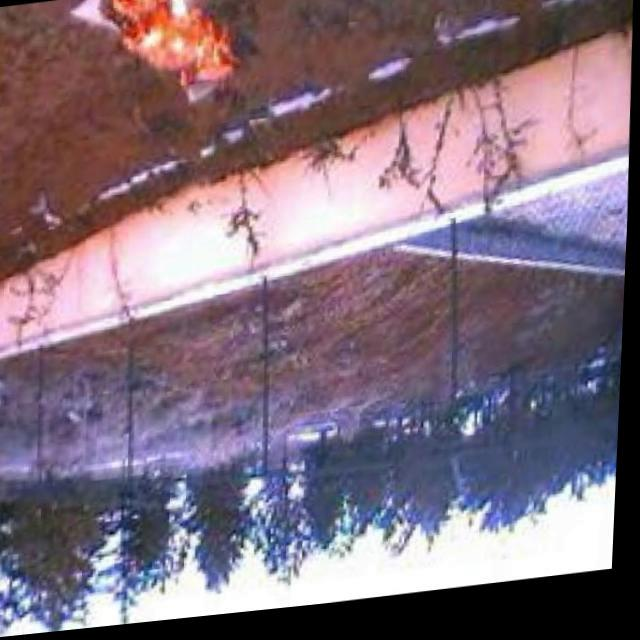fire: (95, 0, 233, 94)
